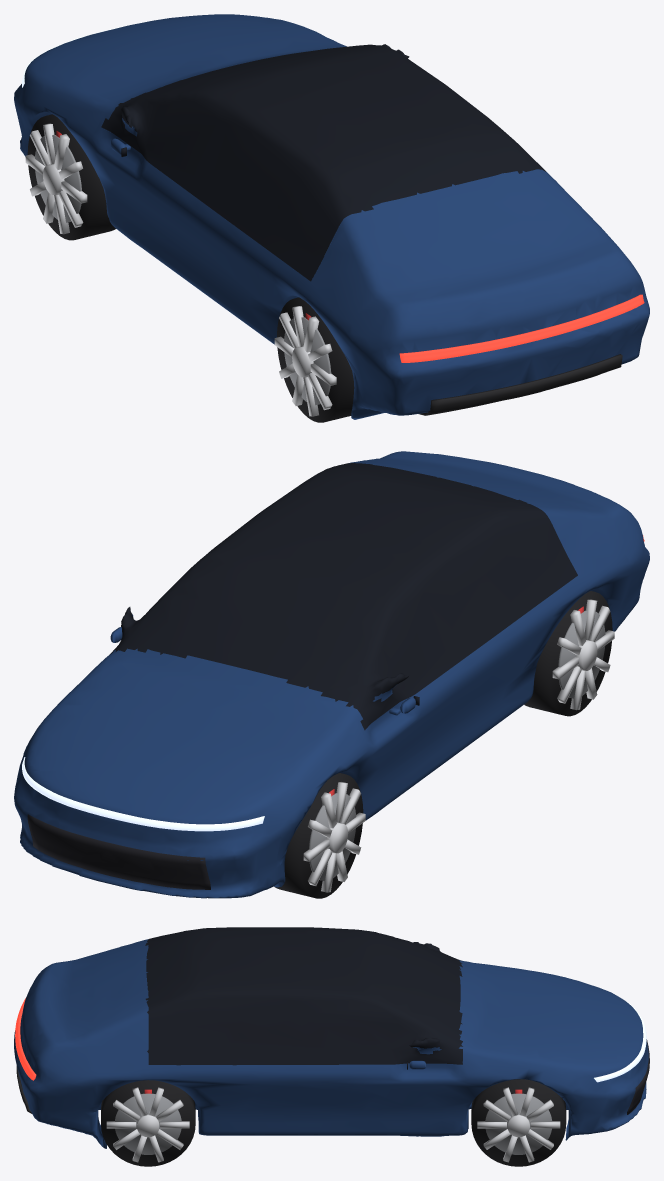
File: hero_car.glb
3 renders of one model, top to bottom at view 1: azimuth 30°, elevation 25°; view 2: azimuth 150°, elevation 25°; view 3: azimuth 270°, elevation 25°, orthographic. The views are drawn at different scales.
Parts seen in each view (by area): view 1: hero_car_body, wheel_FL, wheel_RL; view 2: hero_car_body, wheel_RL, wheel_FL; view 3: hero_car_body, wheel_FR, wheel_RR.
Part boxes in pixels (box(x1,y1,x2,y2)): hero_car_body: box(14, 14, 649, 419); wheel_FL: box(25, 114, 115, 240); wheel_RL: box(274, 297, 354, 422); hero_car_body: box(14, 451, 649, 898); wheel_RL: box(524, 591, 614, 716); wheel_FL: box(274, 773, 365, 898); hero_car_body: box(14, 927, 649, 1148); wheel_FR: box(471, 1079, 566, 1166); wheel_RR: box(101, 1080, 195, 1166).
Bounding box in the file's own units: 2.08 × 1.46 × 5.17.
